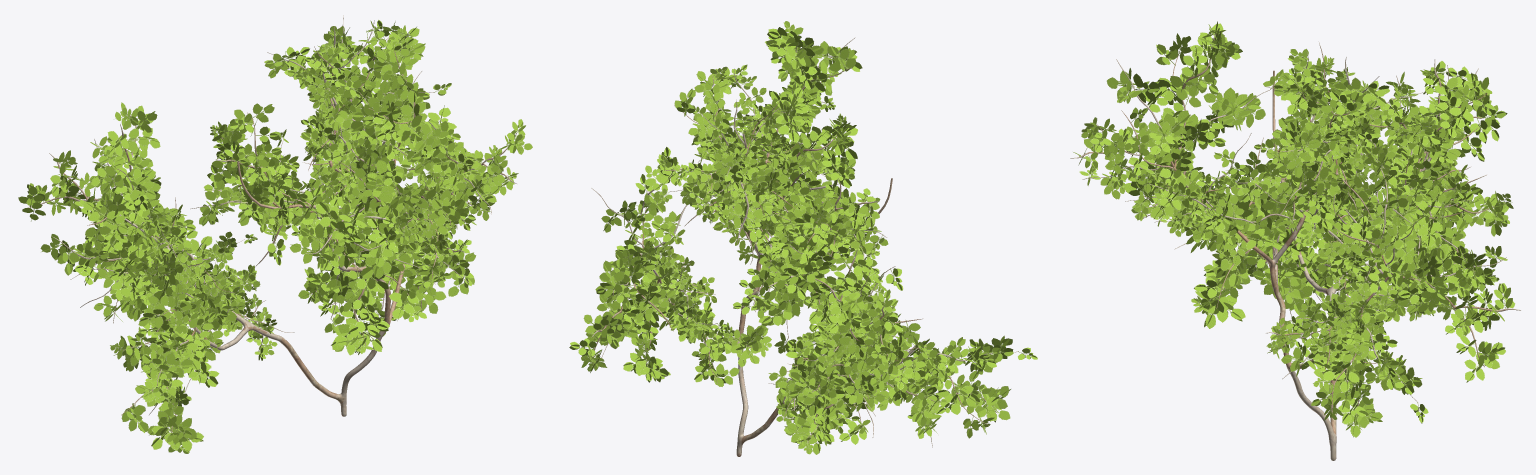
The model's file is Tree_1_5_Green.fbx.
3 views of the same model, side by side, from view 1: azimuth 30°, elevation 25°; view 2: azimuth 150°, elevation 25°; view 3: azimuth 270°, elevation 25° (orthographic). The views are drawn at different scales.
Visible parts, largest first — view 1: Tree_1_5_Green_LOD0; view 2: Tree_1_5_Green_LOD0; view 3: Tree_1_5_Green_LOD0.
Boxes of the visible parts, x1,y1,x2,y2 form: Tree_1_5_Green_LOD0: (18,15,532,453); Tree_1_5_Green_LOD0: (569,21,1037,456); Tree_1_5_Green_LOD0: (1070,21,1520,460).
Size of what is drawn, in the model's own units: 514 by 529 by 488.
